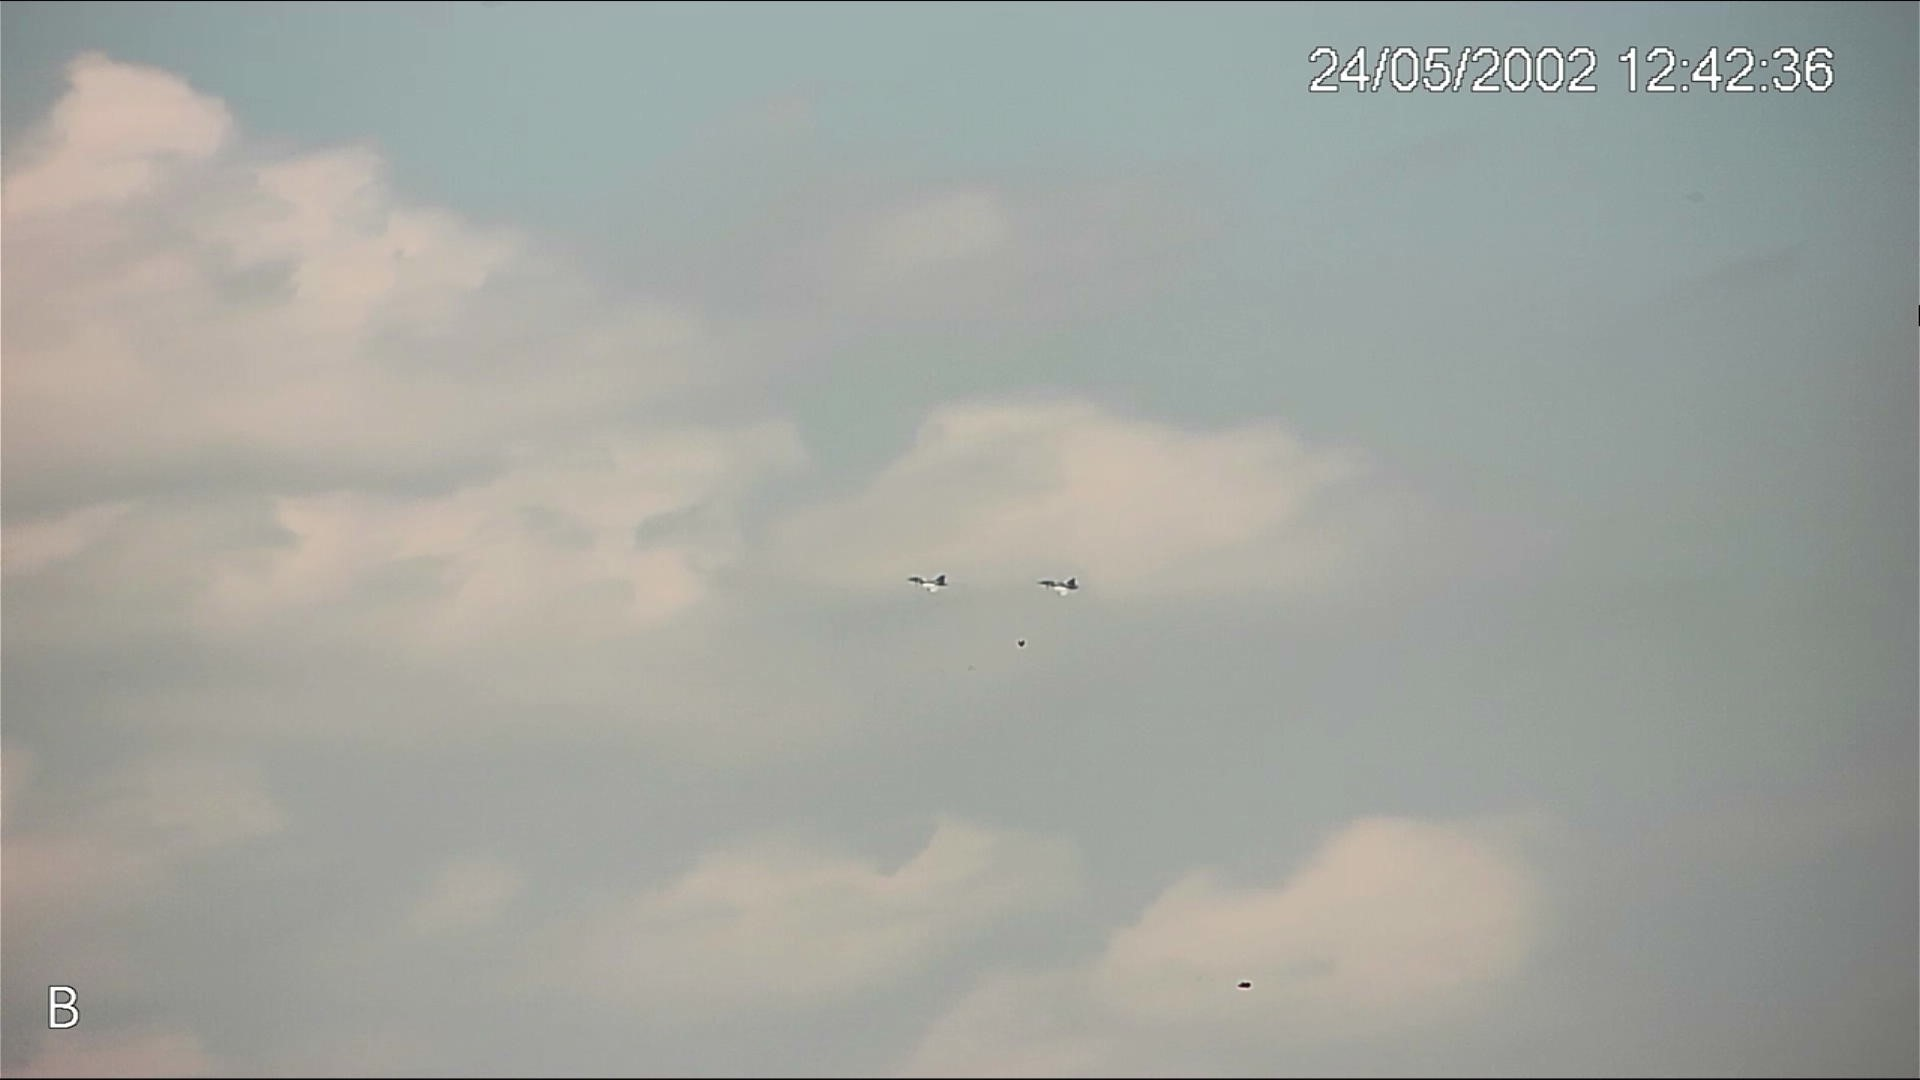SU_30: (1036, 576, 1083, 597), (906, 574, 949, 593)
